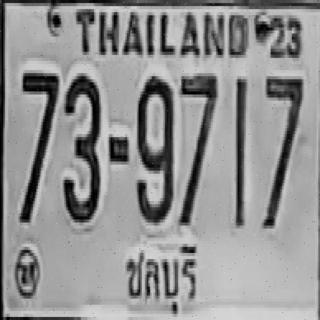N01: (234, 76, 246, 225)
N03: (61, 72, 99, 218)
N07: (262, 73, 302, 226), (178, 70, 216, 222), (20, 70, 58, 219)
N09: (136, 72, 172, 221)
P13: (118, 238, 202, 320)
